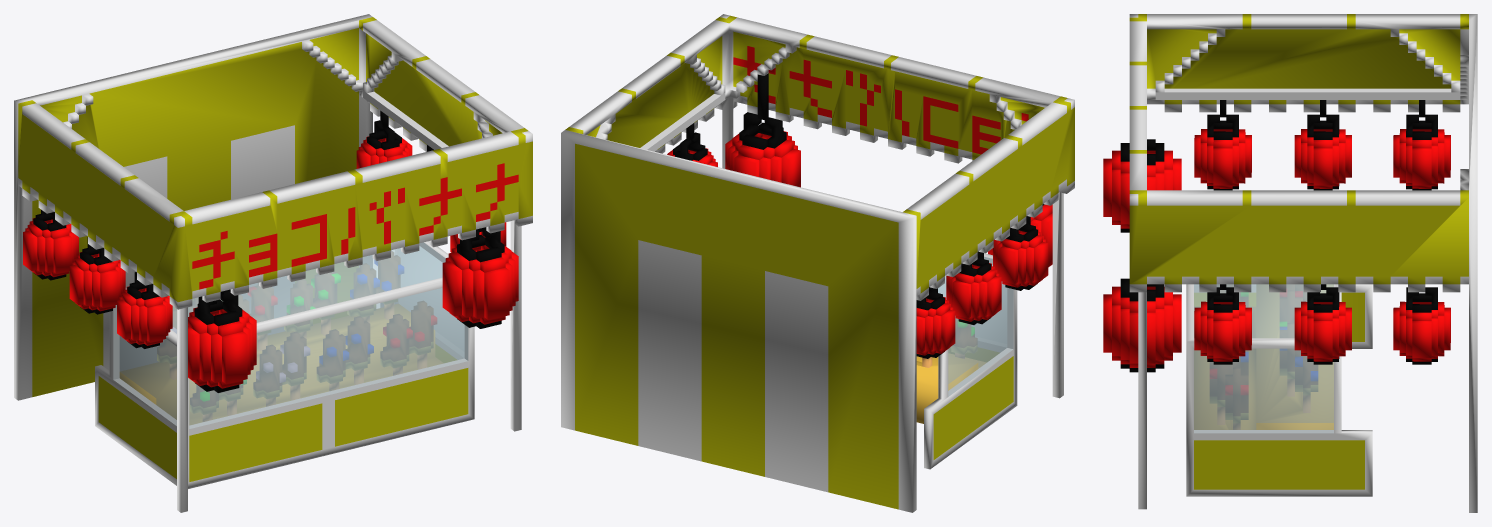
Rendered from FoodStalls3.fbx.
The picture shows the model from 3 angles, left to right: view 1: azimuth 30°, elevation 25°; view 2: azimuth 150°, elevation 25°; view 3: azimuth 270°, elevation 25°; orthographic projection. The views are drawn at different scales.
Parts seen in each view (by area): view 1: ObjObject.003, ObjObject.002, ObjObject, ObjObject.007, ObjObject.001, ObjObject.004, ObjObject.006, ObjObject.005, ObjObject.009; view 2: ObjObject.003, ObjObject.002, ObjObject.007, ObjObject.004, ObjObject.006, ObjObject, ObjObject.005, ObjObject.008, ObjObject.001; view 3: ObjObject.003, ObjObject.002, ObjObject, ObjObject.007, ObjObject.006, ObjObject.005, ObjObject.004, ObjObject.010, ObjObject.008, ObjObject.009, ObjObject.001.
Boxes of the visible parts, left/top/right/bottom form: ObjObject.003: left=14, top=14, right=532, bottom=512; ObjObject.002: left=95, top=241, right=474, bottom=488; ObjObject: left=119, top=251, right=443, bottom=424; ObjObject.007: left=442, top=227, right=518, bottom=328; ObjObject.001: left=188, top=289, right=256, bottom=392; ObjObject.004: left=117, top=272, right=172, bottom=348; ObjObject.006: left=69, top=237, right=125, bottom=314; ObjObject.005: left=23, top=209, right=78, bottom=280; ObjObject.009: left=356, top=110, right=412, bottom=168; ObjObject.003: left=561, top=14, right=1074, bottom=512; ObjObject.002: left=924, top=253, right=1017, bottom=469; ObjObject.007: left=725, top=73, right=800, bottom=187; ObjObject.004: left=993, top=216, right=1048, bottom=290; ObjObject.006: left=946, top=251, right=1001, bottom=324; ObjObject: left=916, top=319, right=985, bottom=423; ObjObject.005: left=916, top=287, right=955, bottom=358; ObjObject.008: left=667, top=123, right=717, bottom=166; ObjObject.001: left=988, top=204, right=1052, bottom=267; ObjObject.003: left=1129, top=14, right=1477, bottom=512; ObjObject.002: left=1186, top=284, right=1372, bottom=496; ObjObject: left=1194, top=284, right=1333, bottom=429; ObjObject.007: left=1103, top=278, right=1181, bottom=372; ObjObject.006: left=1294, top=100, right=1351, bottom=190; ObjObject.005: left=1393, top=100, right=1450, bottom=190; ObjObject.004: left=1194, top=100, right=1251, bottom=190; ObjObject.010: left=1294, top=284, right=1351, bottom=364; ObjObject.008: left=1194, top=284, right=1251, bottom=364; ObjObject.009: left=1393, top=287, right=1450, bottom=364; ObjObject.001: left=1103, top=139, right=1181, bottom=232.
Size of the model in its own units: 536 by 400 by 430.
